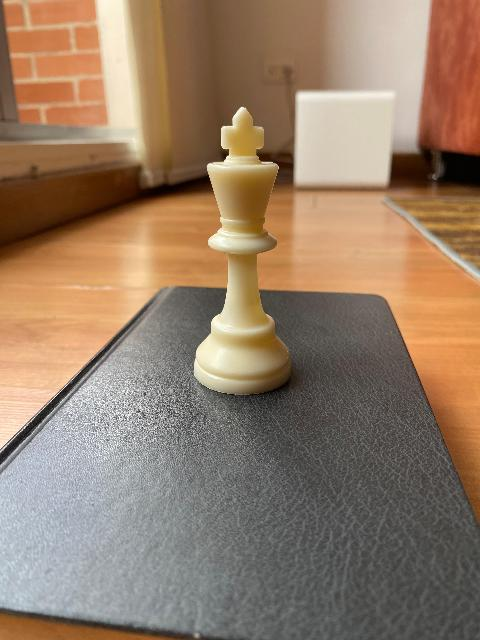white-king: (192, 106, 292, 394)
